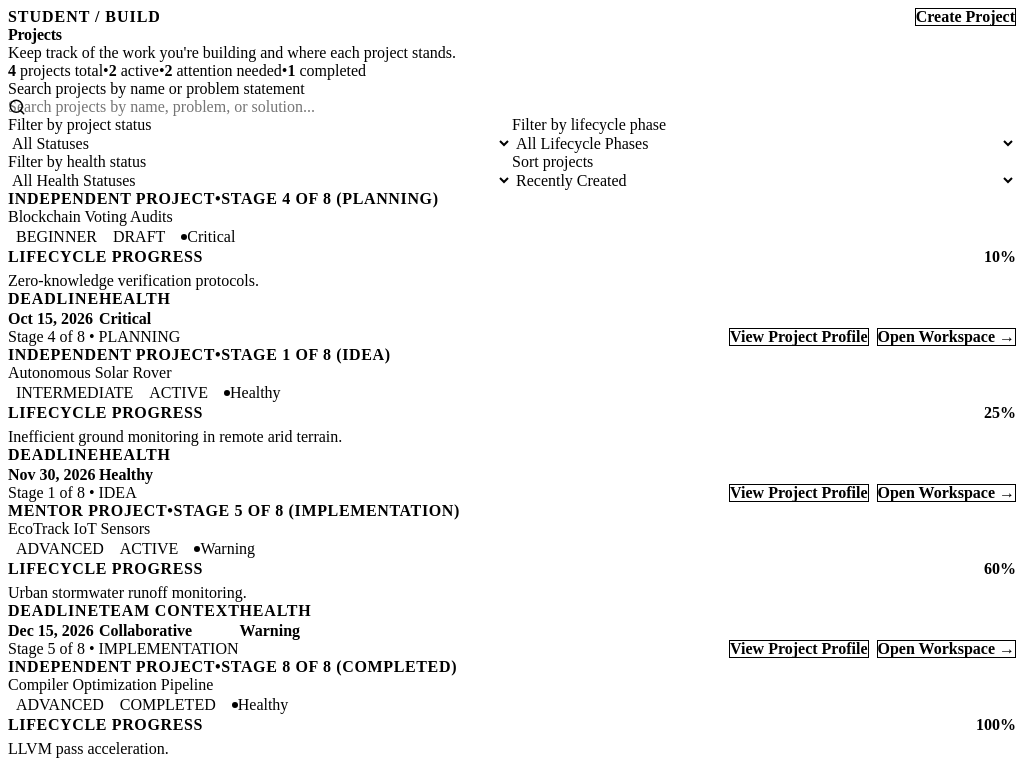
S02 — Student Projects (/student/projects) › 8. sorts projects deterministically: Name A-Z, Name Z-A, Progress, Deadline
Expected: the heading "Autonomous Solar Rover" is shown, [8,364,172,381]
Sort by Name (A to Z)
Select "Name (A to Z)" in the dropdown labelled "Sort projects": (764, 180) [512,171,1016,190]
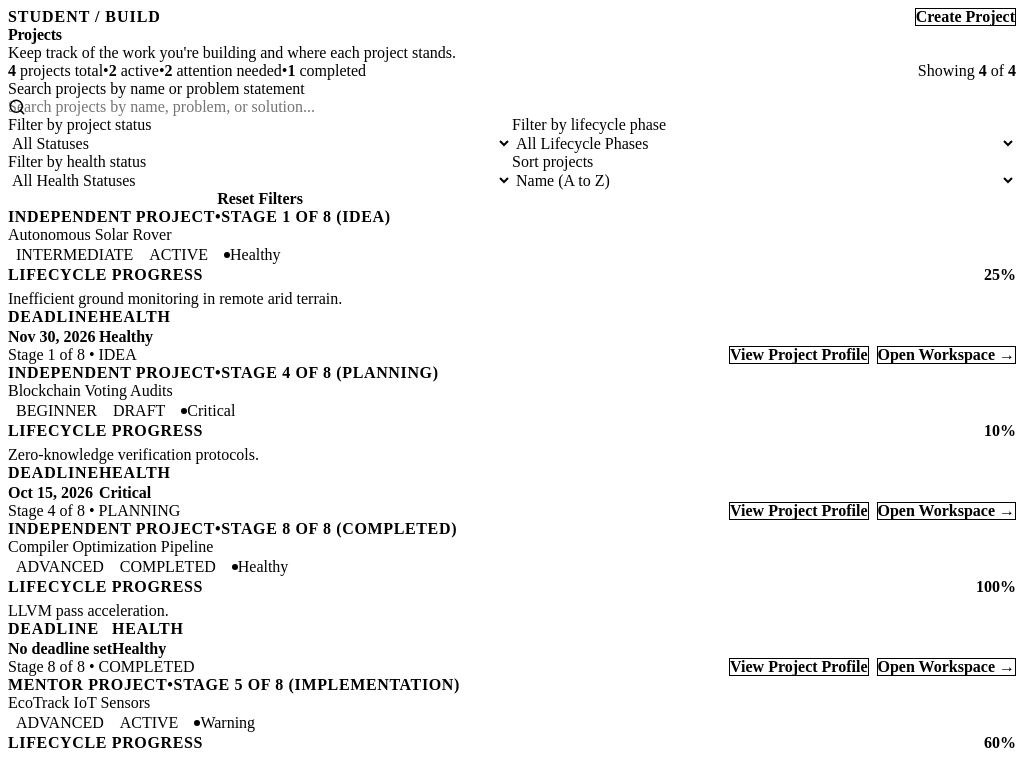
Now the headings read "Autonomous Solar Rover", "Blockchain Voting Audits", "Compiler Optimization Pipeline", "EcoTrack IoT Sensors", in this order, box [8,226,172,243]; [8,382,173,399]; [8,538,213,555]; [8,694,150,711]
Sort by Progress (High to Low)
Select "Progress (High to Low)" in the dropdown labelled "Sort projects": (764, 180) [512,171,1016,190]
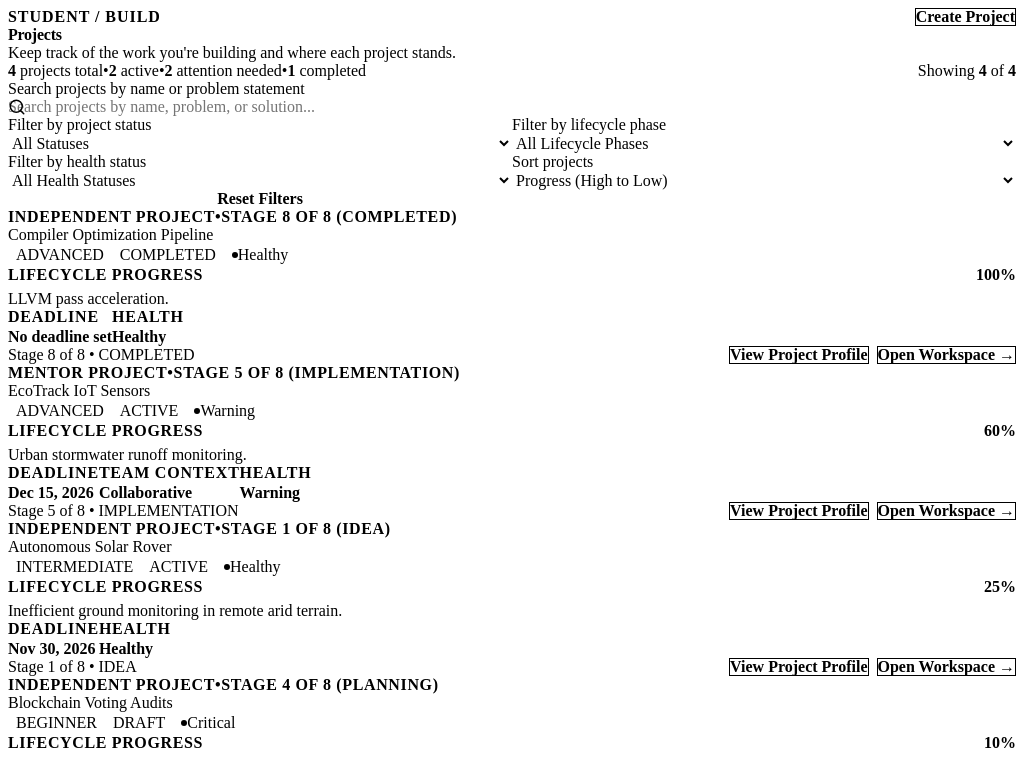
Now the headings read "Compiler Optimization Pipeline", "EcoTrack IoT Sensors", "Autonomous Solar Rover", "Blockchain Voting Audits", in this order, box [8,226,213,243]; [8,382,150,399]; [8,538,172,555]; [8,694,173,711]
